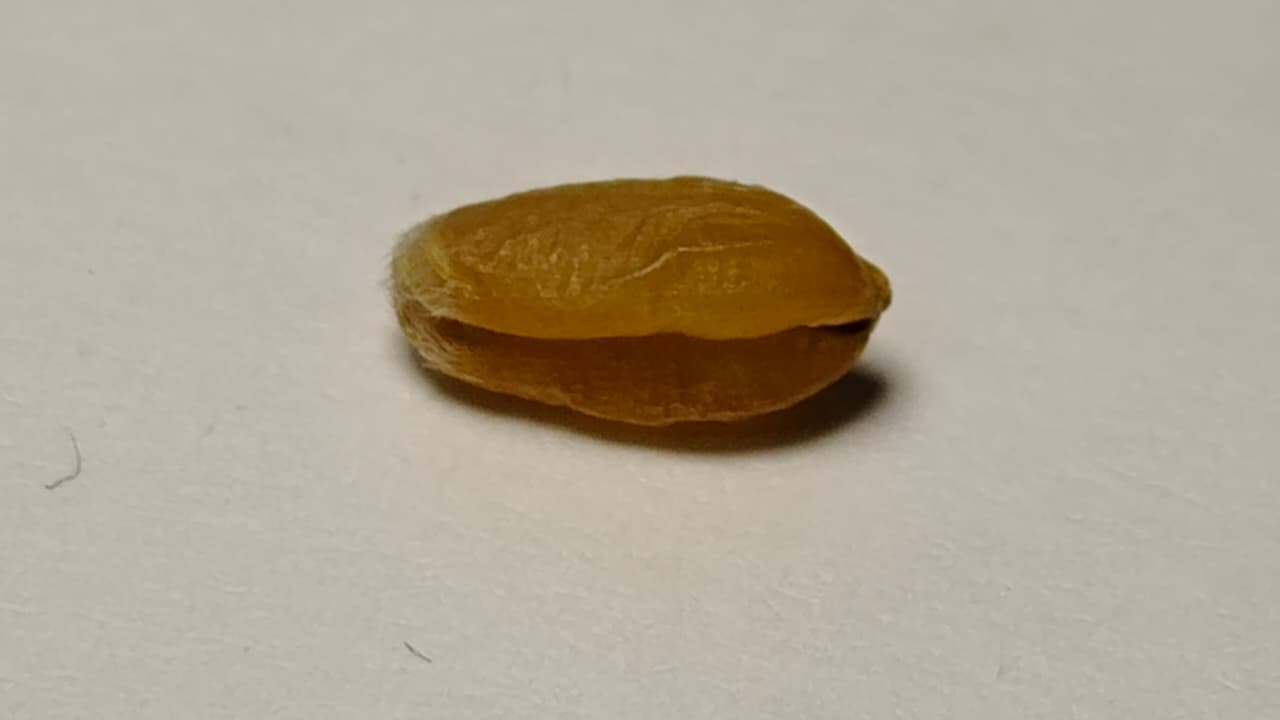healthy: (394, 176, 889, 420)
